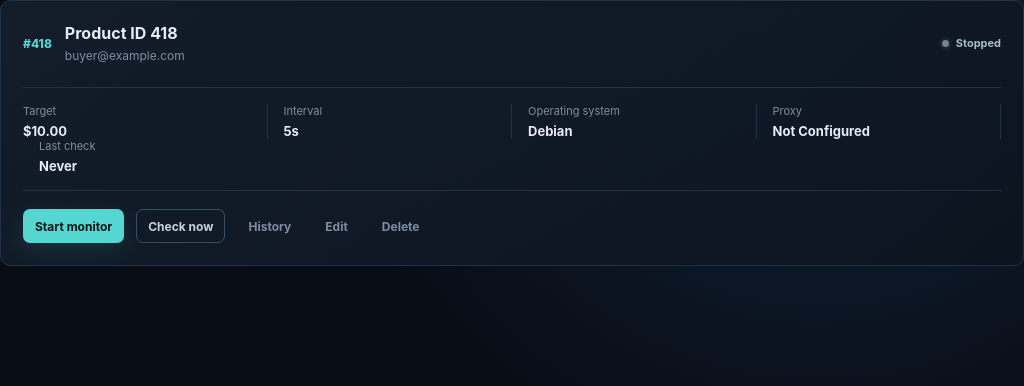
Test: TaskCard operation locking › does not add a dollar sign to an already-formatted observed price
The image size is (1024, 386).
Click the button "History" at (270, 226), box [237,209,302,243]
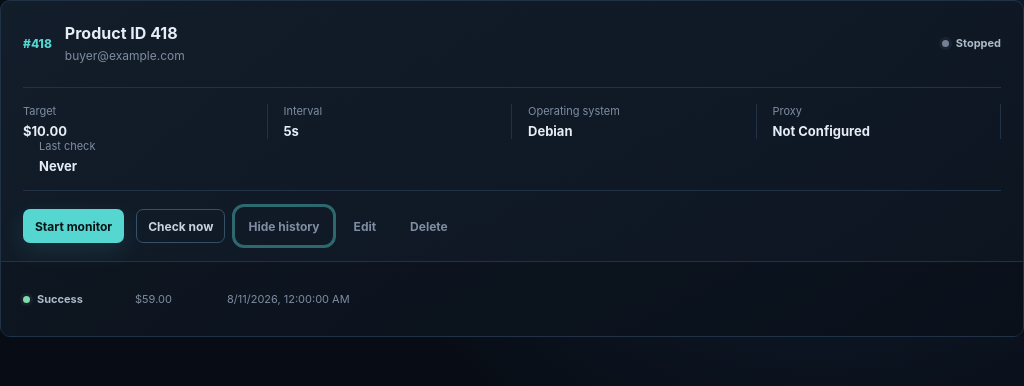
Expected: the text "$59.00" is shown, [135,292,172,306]
